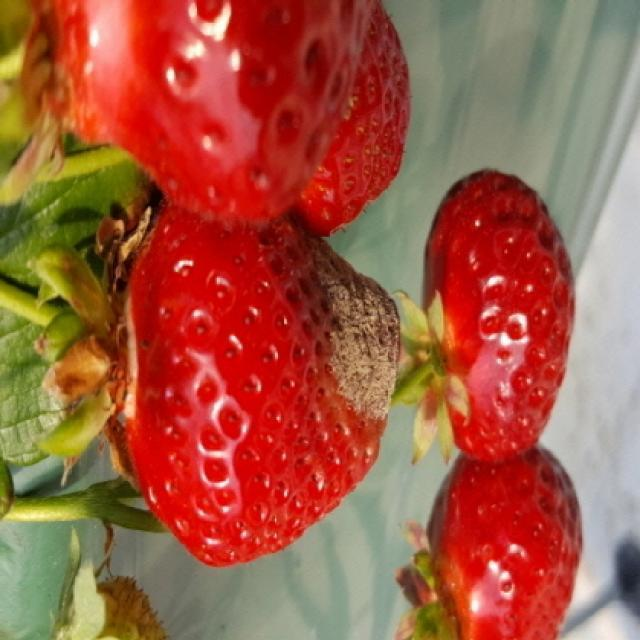Gray Mold: (114, 207, 403, 570)
